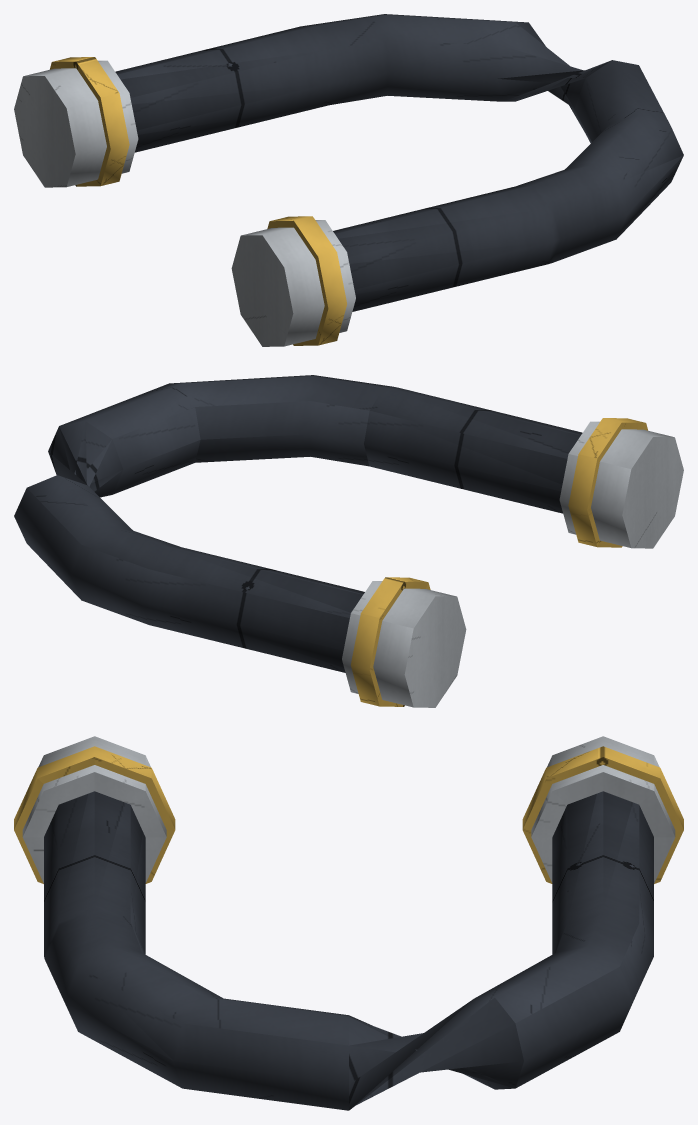
Rendered from hose_u_bend.glb.
The picture shows the model from 3 angles, top to bottom: view 1: azimuth 30°, elevation 25°; view 2: azimuth 150°, elevation 25°; view 3: azimuth 270°, elevation 25°; orthographic projection. The views are drawn at different scales.
Parts seen in each view (by area): view 1: DL016_HoseU_rubber_dark, DL016_HoseU_titanium, DL016_HoseU_amber_accent; view 2: DL016_HoseU_rubber_dark, DL016_HoseU_titanium, DL016_HoseU_amber_accent; view 3: DL016_HoseU_rubber_dark, DL016_HoseU_titanium, DL016_HoseU_amber_accent.
Boxes of the visible parts, left/top/right/bottom form: DL016_HoseU_rubber_dark: left=115, top=14, right=683, bottom=311; DL016_HoseU_titanium: left=14, top=60, right=355, bottom=346; DL016_HoseU_amber_accent: left=50, top=57, right=346, bottom=345; DL016_HoseU_rubber_dark: left=14, top=375, right=582, bottom=672; DL016_HoseU_titanium: left=342, top=421, right=683, bottom=707; DL016_HoseU_amber_accent: left=351, top=418, right=647, bottom=706; DL016_HoseU_rubber_dark: left=44, top=791, right=653, bottom=1110; DL016_HoseU_titanium: left=22, top=736, right=675, bottom=883; DL016_HoseU_amber_accent: left=14, top=746, right=683, bottom=883.
Bounding box in the file's own units: 1.58 × 0.3808 × 1.58.
Materials: 3 (3 with a texture image).
